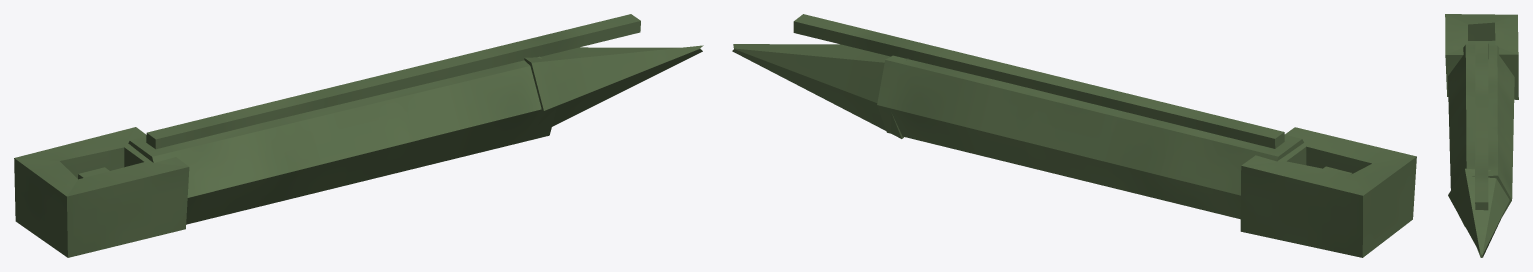
Rendered from needle_uncommon.glb.
3 views of the same model, side by side, from view 1: azimuth 30°, elevation 25°; view 2: azimuth 150°, elevation 25°; view 3: azimuth 270°, elevation 25° (orthographic). The views are drawn at different scales.
Visible parts, largest first — view 1: NeedleUncommon; view 2: NeedleUncommon; view 3: NeedleUncommon.
Part boxes in pixels (left/top/right/bottom): NeedleUncommon: left=14, top=14, right=703, bottom=257; NeedleUncommon: left=732, top=14, right=1416, bottom=257; NeedleUncommon: left=1445, top=14, right=1518, bottom=257.
Size of the model in its own units: 0.3368 by 0.0416 by 0.0477.
Materials: 1 (1 with a texture image).
